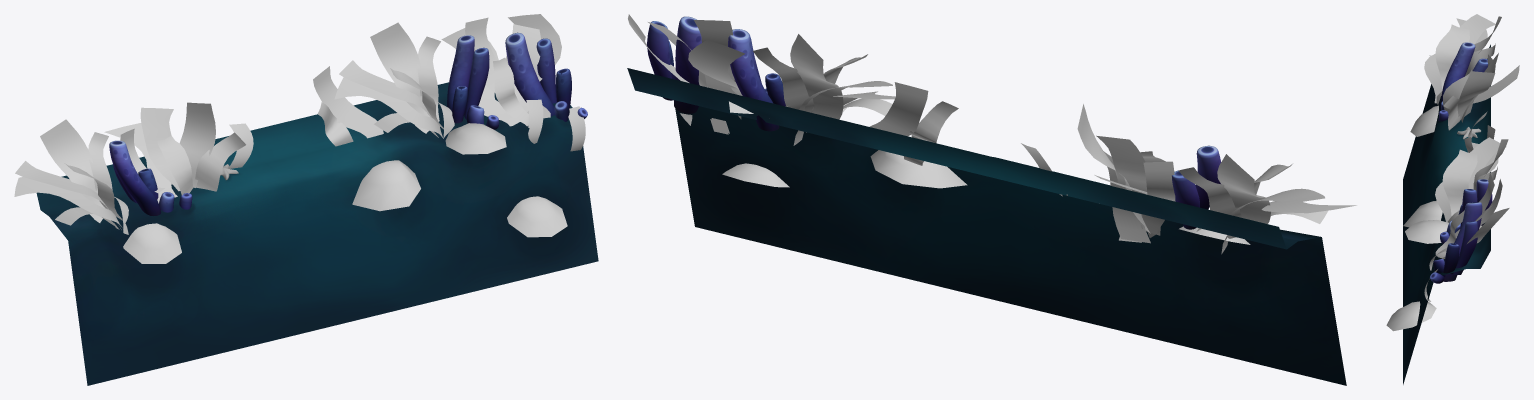
The model's file is Shelf1.fbx.
The picture shows the model from 3 angles, left to right: view 1: azimuth 30°, elevation 25°; view 2: azimuth 150°, elevation 25°; view 3: azimuth 270°, elevation 25°; orthographic projection. The views are drawn at different scales.
Parts seen in each view (by area): view 1: Shelf1; view 2: Shelf1; view 3: Shelf1.
Part boxes in pixels (box(x1,y1,x2,y2)): Shelf1: box(14, 14, 598, 385); Shelf1: box(627, 14, 1356, 385); Shelf1: box(1386, 14, 1519, 384).
Size of the model in its own units: 438 by 172 by 109.
